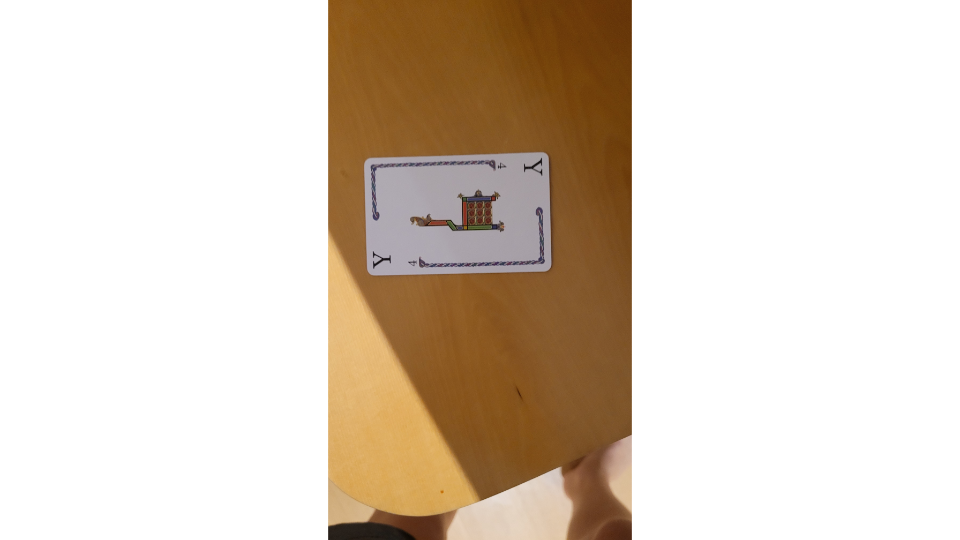Y: (362, 151, 556, 276)
